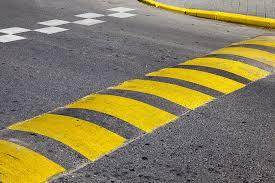Bump: (0, 33, 274, 182)
